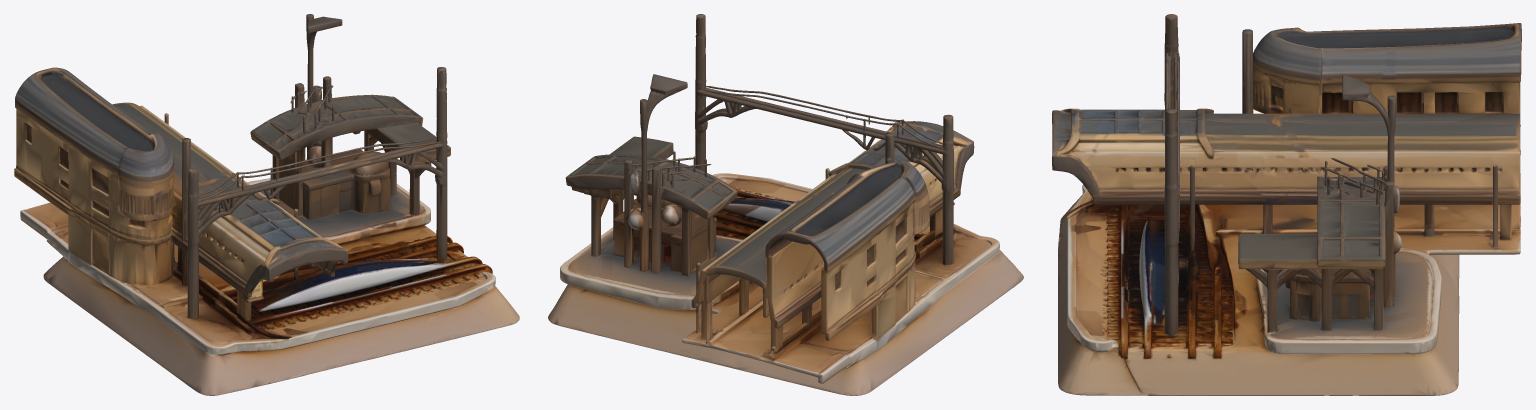
The model's file is station.glb.
3 renders of one model, left to right at view 1: azimuth 30°, elevation 25°; view 2: azimuth 150°, elevation 25°; view 3: azimuth 270°, elevation 25°, orthographic. The views are drawn at different scales.
Visible parts, largest first — view 1: texture_pbr_v128; view 2: texture_pbr_v128; view 3: texture_pbr_v128.
Boxes of the visible parts, left/top/right/bottom form: texture_pbr_v128: left=14, top=14, right=519, bottom=395; texture_pbr_v128: left=548, top=14, right=1023, bottom=395; texture_pbr_v128: left=1052, top=14, right=1521, bottom=395.
Size of the model in its own units: 0.7786 by 0.5181 by 0.8275.
1 material, 1 textured.
